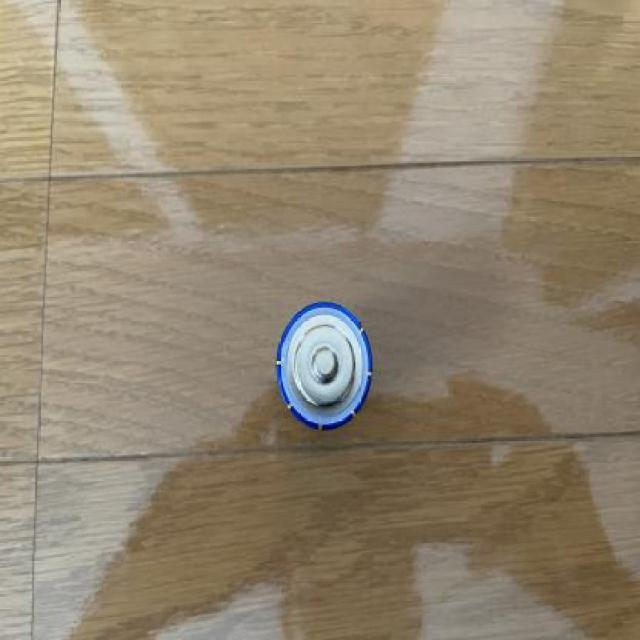hazardous waste: (274, 300, 372, 428)
